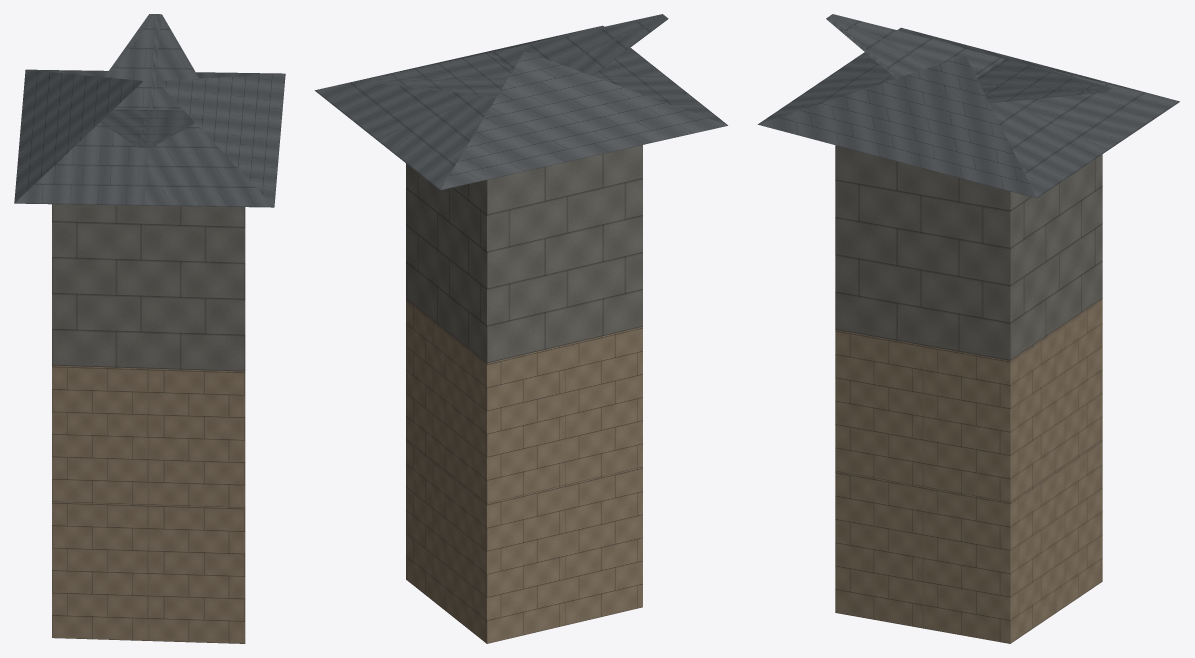
Rendered from bld_c3_5_499.gltf.
3 renders of one model, left to right at view 1: azimuth 30°, elevation 25°; view 2: azimuth 150°, elevation 25°; view 3: azimuth 270°, elevation 25°, orthographic. The views are drawn at different scales.
Visible parts, largest first — view 1: bld_c3_5_499; view 2: bld_c3_5_499; view 3: bld_c3_5_499.
Part boxes in pixels (x1,y1,x2,y2): bld_c3_5_499: (14,14,285,643); bld_c3_5_499: (314,14,727,643); bld_c3_5_499: (758,14,1179,643).
Size of the model in its own units: 6.13 by 9.1 by 6.41.
3 materials, 3 textured.
